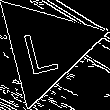L_N: (25, 19, 67, 75)
